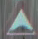Speed Breaker ahead: (3, 3, 36, 38)
